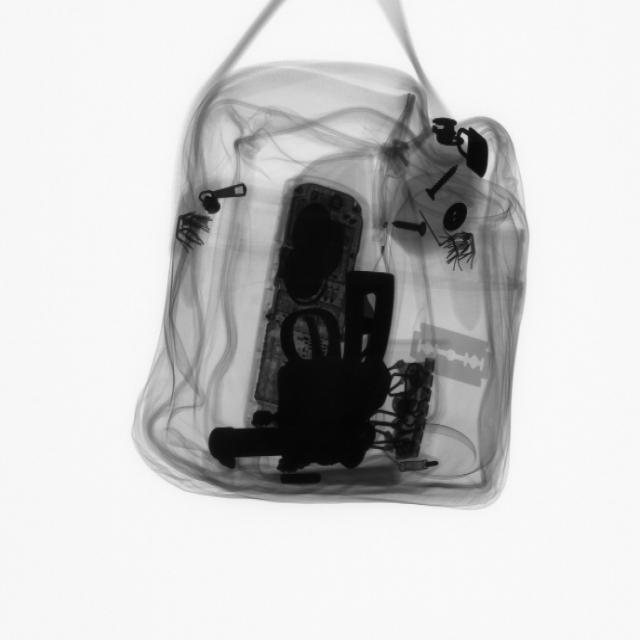BLADE: (405, 317, 503, 393)
GUN: (210, 258, 399, 477)
SCREW: (422, 160, 462, 208), (388, 214, 433, 241)
